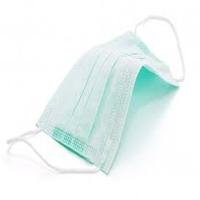flu mask: (37, 29, 178, 175)
